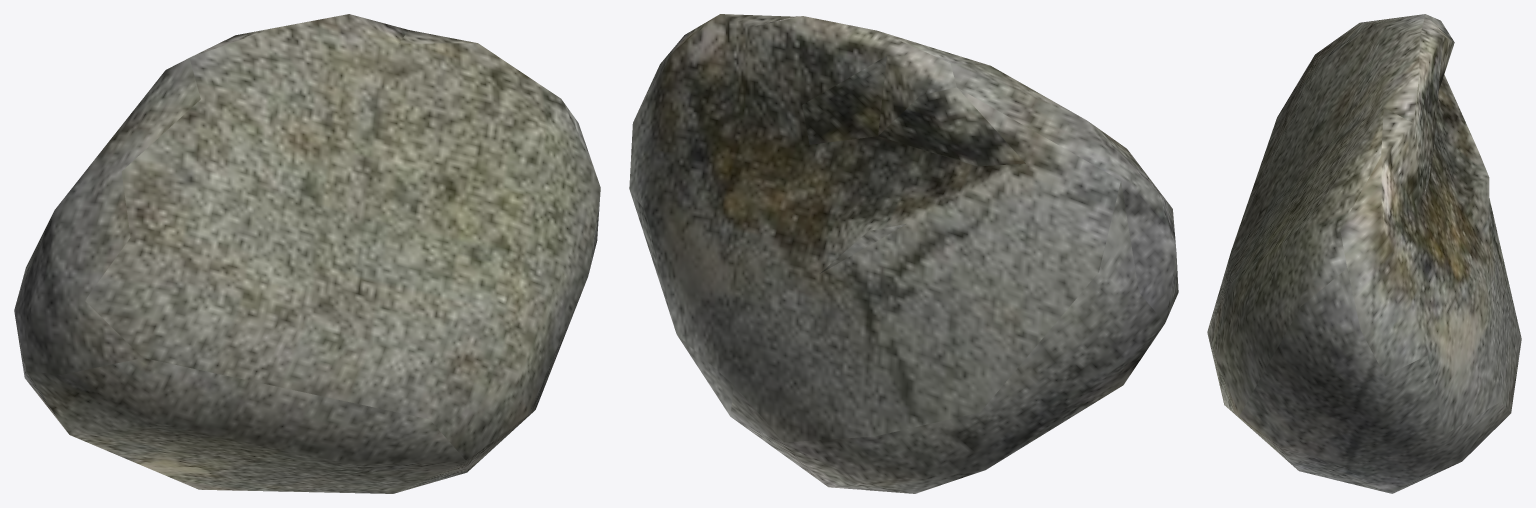
3 renders of one model, left to right at view 1: azimuth 30°, elevation 25°; view 2: azimuth 150°, elevation 25°; view 3: azimuth 270°, elevation 25°, orthographic. The views are drawn at different scales.
Visible parts, largest first — view 1: rock001_lod4; view 2: rock001_lod4; view 3: rock001_lod4.
Boxes of the visible parts, x1,y1,x2,y2 form: rock001_lod4: [14, 14, 600, 493]; rock001_lod4: [629, 14, 1178, 493]; rock001_lod4: [1207, 14, 1521, 493].
Bounding box in the file's own units: 1 × 0.7953 × 0.5454.
1 material, 1 textured.
